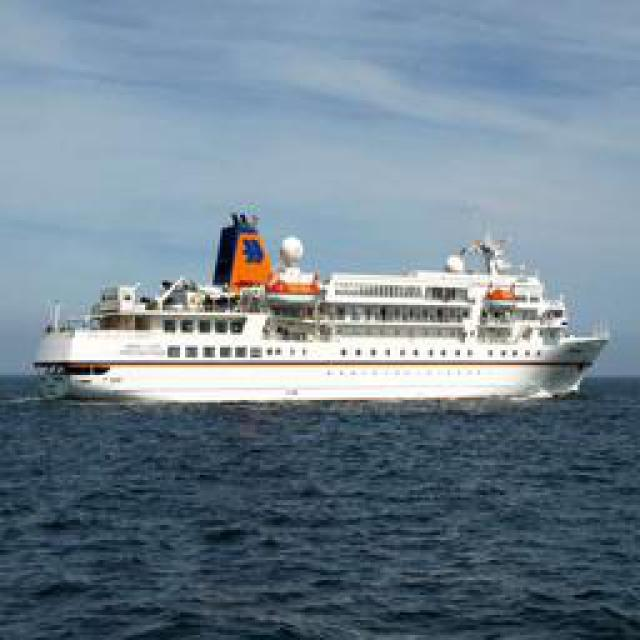Ship: (45, 211, 615, 414)
